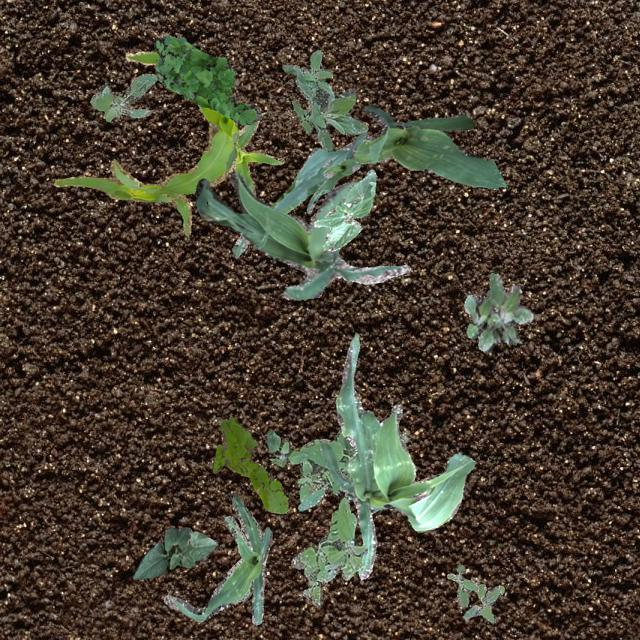crop: (230, 104, 506, 256), (318, 332, 474, 578), (52, 49, 236, 234), (193, 172, 410, 298), (162, 494, 270, 624), (312, 168, 376, 250), (306, 132, 366, 212), (224, 118, 284, 196), (132, 526, 218, 578)
weed: (152, 34, 260, 124), (296, 426, 408, 509), (282, 48, 366, 152), (290, 496, 366, 604), (212, 416, 288, 512), (463, 272, 532, 351), (446, 564, 504, 622), (90, 72, 156, 120), (266, 428, 308, 466)
